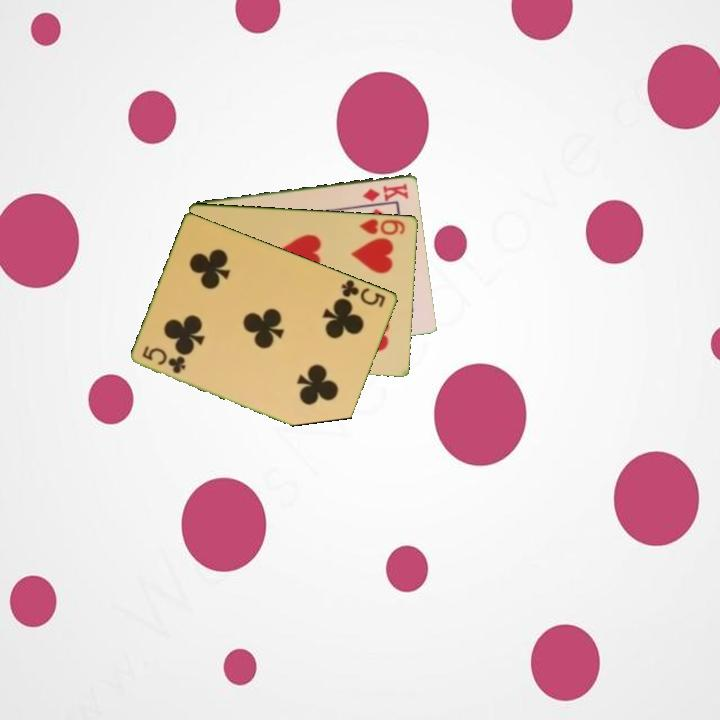5c: (338, 276, 389, 310), (139, 342, 189, 376)
6h: (356, 215, 408, 238)
Kd: (359, 180, 411, 204)
